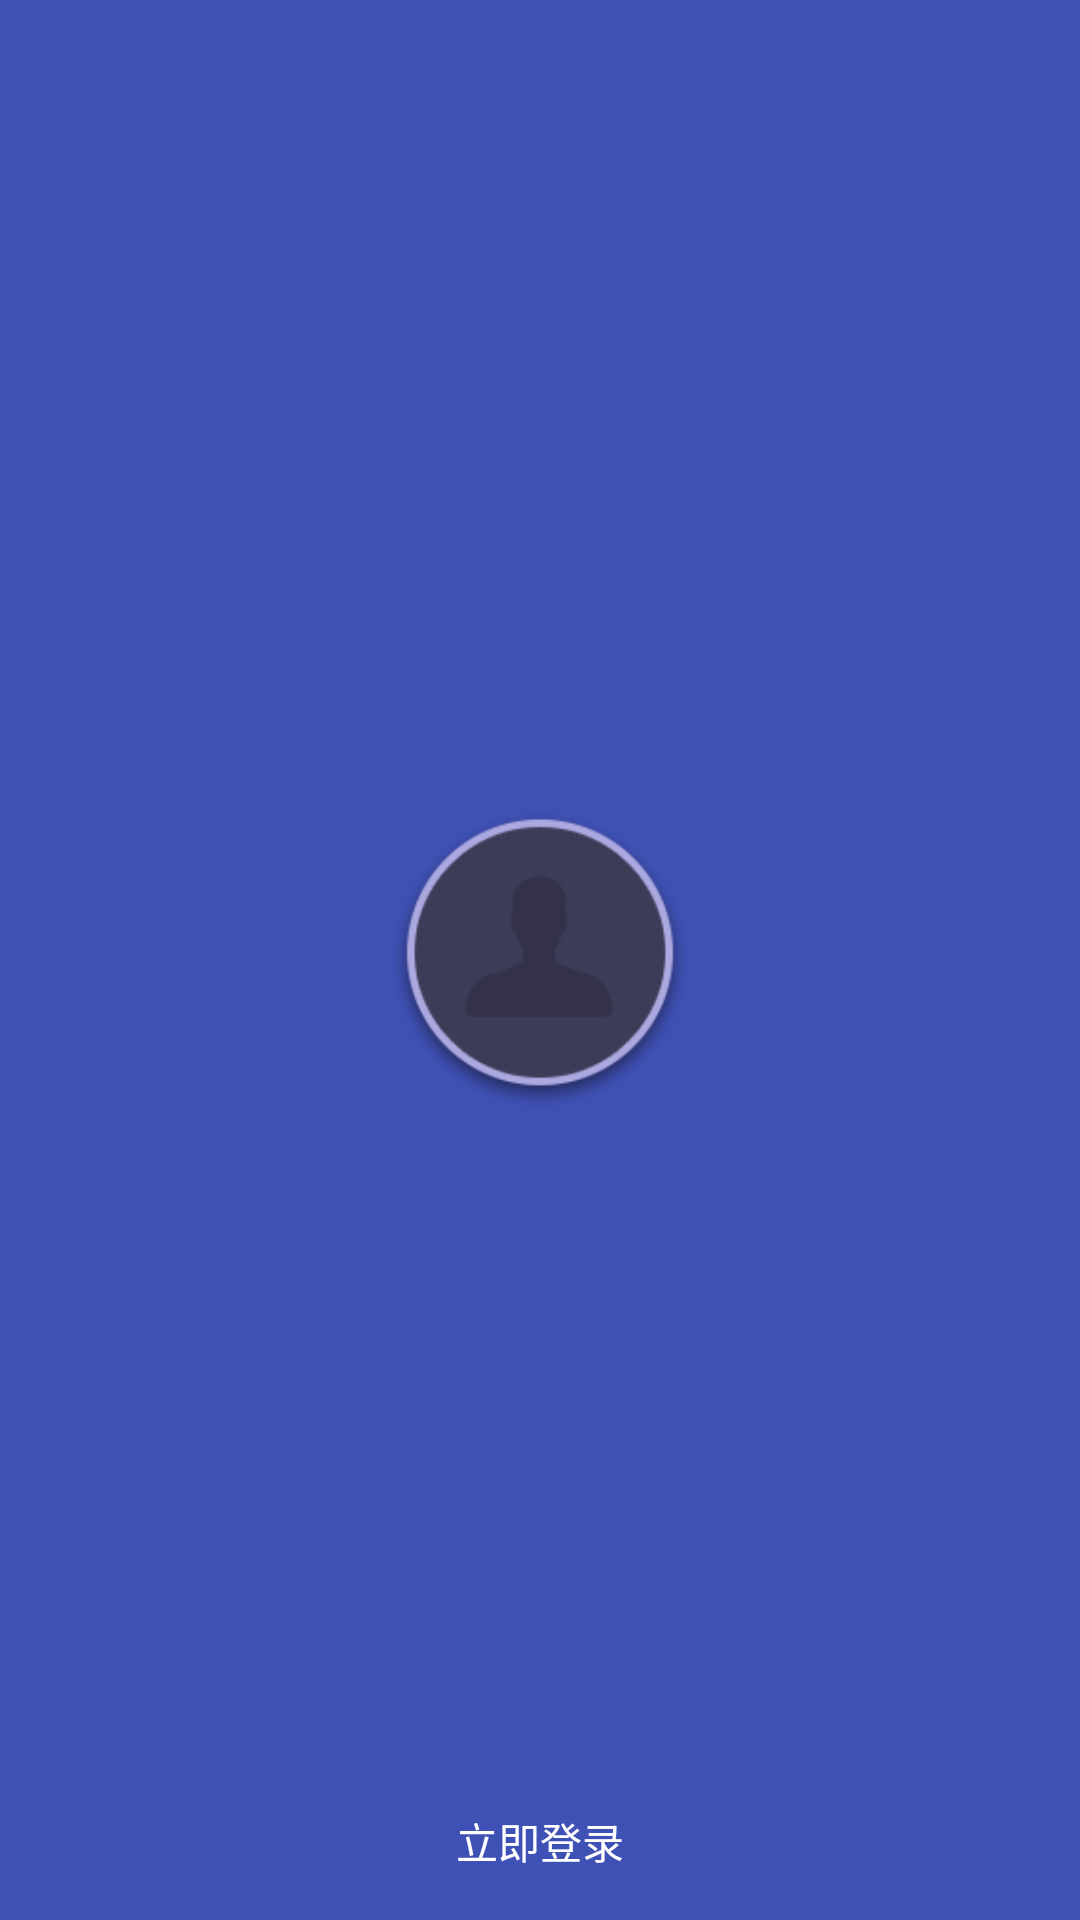

Icons on this 1080 x 1920 Android screen, each with its box as (x1, y1, x2, y2):
head: (402, 819, 678, 1098)
